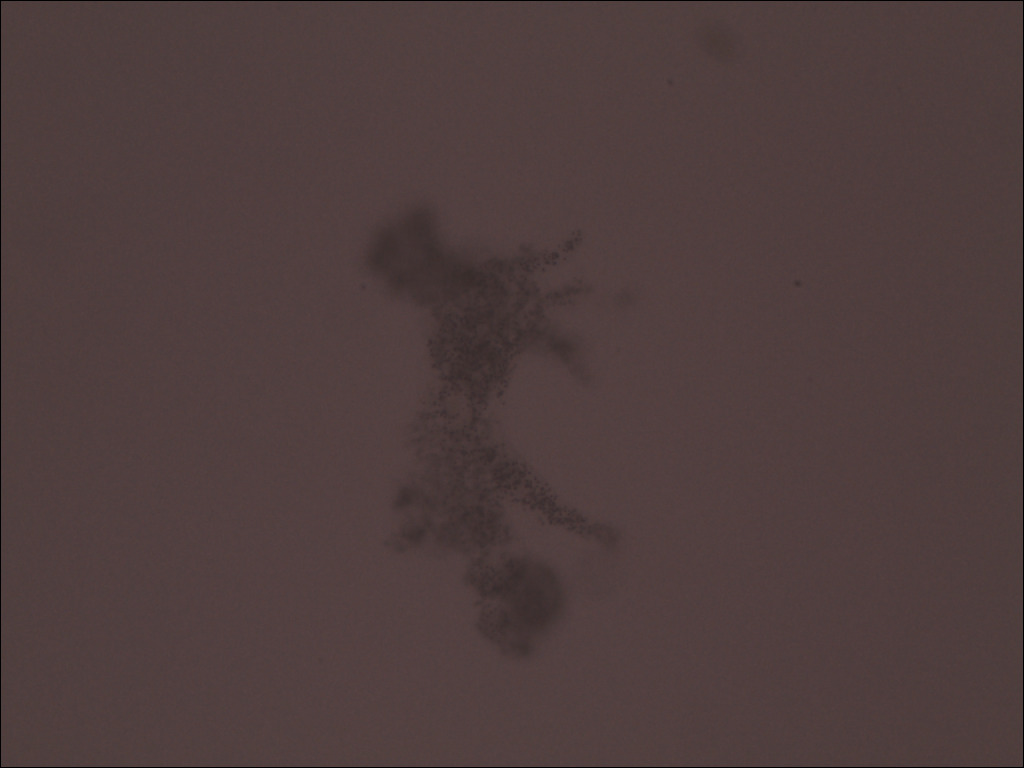amoeba: (344, 200, 639, 673)
